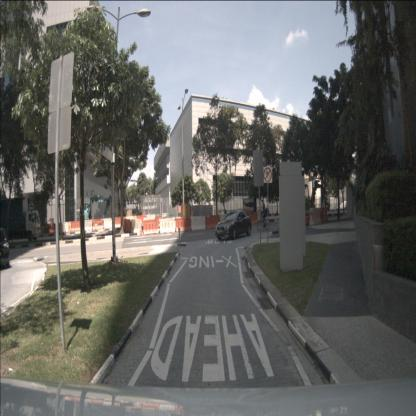barrier: (142, 220, 160, 235), (159, 218, 176, 233), (174, 218, 192, 232), (219, 213, 235, 228), (190, 216, 206, 231), (309, 208, 322, 225), (205, 216, 220, 230), (241, 212, 258, 224), (316, 208, 328, 222), (131, 219, 142, 234), (143, 217, 156, 228), (92, 219, 103, 231), (113, 217, 125, 228), (82, 220, 93, 231), (60, 221, 71, 232), (70, 221, 82, 231), (124, 219, 132, 234), (103, 218, 113, 230), (50, 224, 61, 234), (126, 216, 138, 225), (146, 214, 156, 223), (136, 216, 147, 224), (46, 224, 52, 234)
cone: (139, 223, 143, 235), (64, 228, 67, 238), (41, 228, 44, 237), (11, 236, 14, 244), (103, 225, 106, 233)
